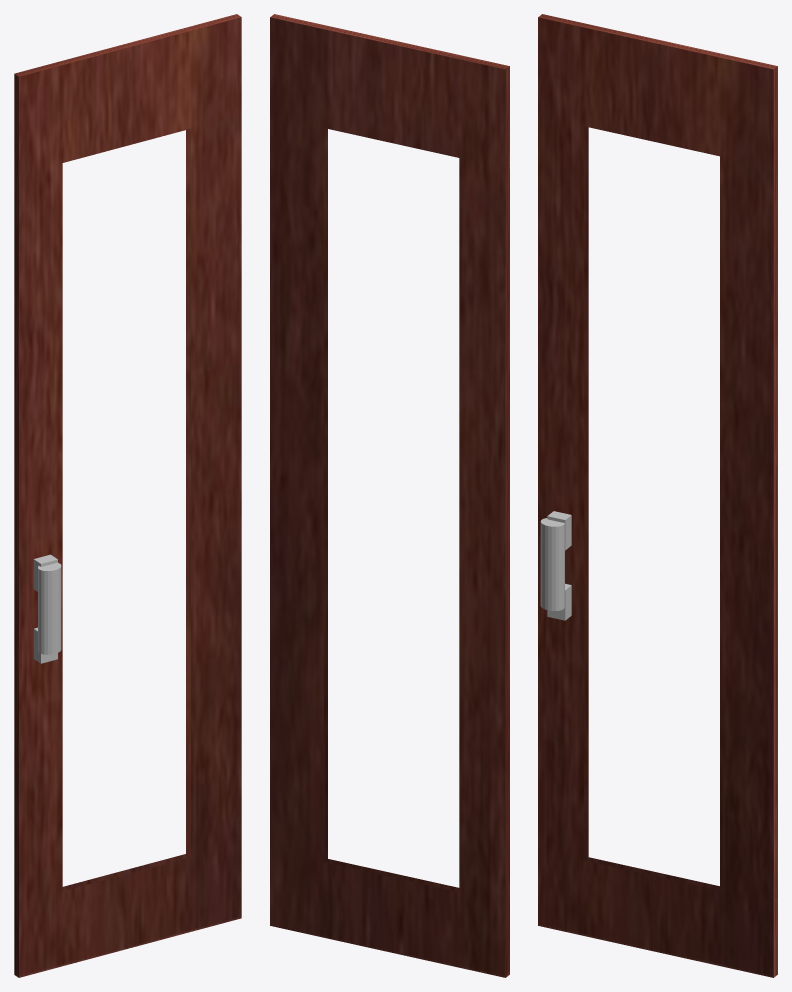
The model's file is libreroPuertaDer.obj.
3 renders of one model, left to right at view 1: azimuth 30°, elevation 25°; view 2: azimuth 150°, elevation 25°; view 3: azimuth 330°, elevation 25°, orthographic.
Visible parts, largest first — view 1: libreroPuertaDer_pCube23; view 2: libreroPuertaDer_pCube23; view 3: libreroPuertaDer_pCube23.
Boxes of the visible parts, x1,y1,x2,y2 form: libreroPuertaDer_pCube23: [14, 14, 241, 977]; libreroPuertaDer_pCube23: [270, 14, 509, 977]; libreroPuertaDer_pCube23: [538, 14, 777, 977].
Size of the model in its own units: 1.05 by 3.97 by 0.1839.
